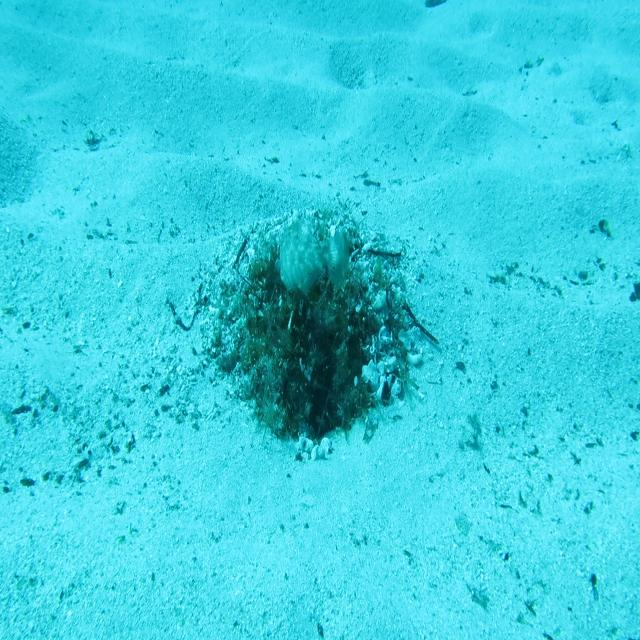NIP_CORE: (275, 215, 350, 304)
core_nest: (274, 265, 338, 306)
nest: (192, 188, 430, 471)
